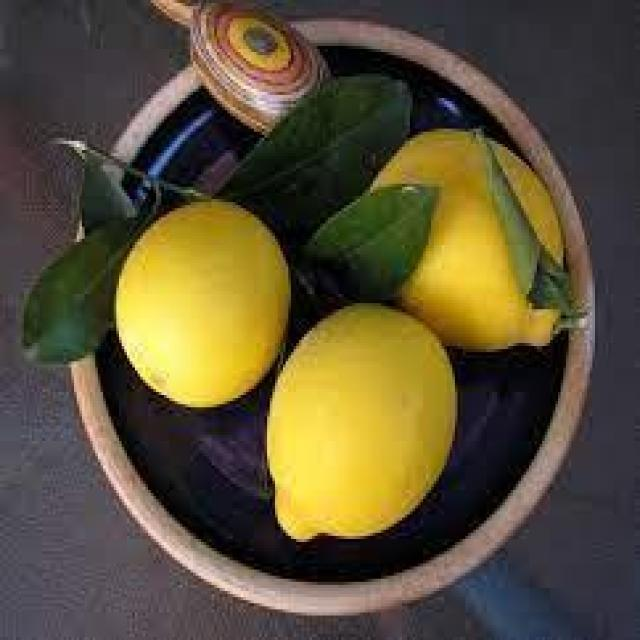Lemon: (264, 307, 459, 545), (371, 129, 563, 355), (111, 198, 293, 415)
